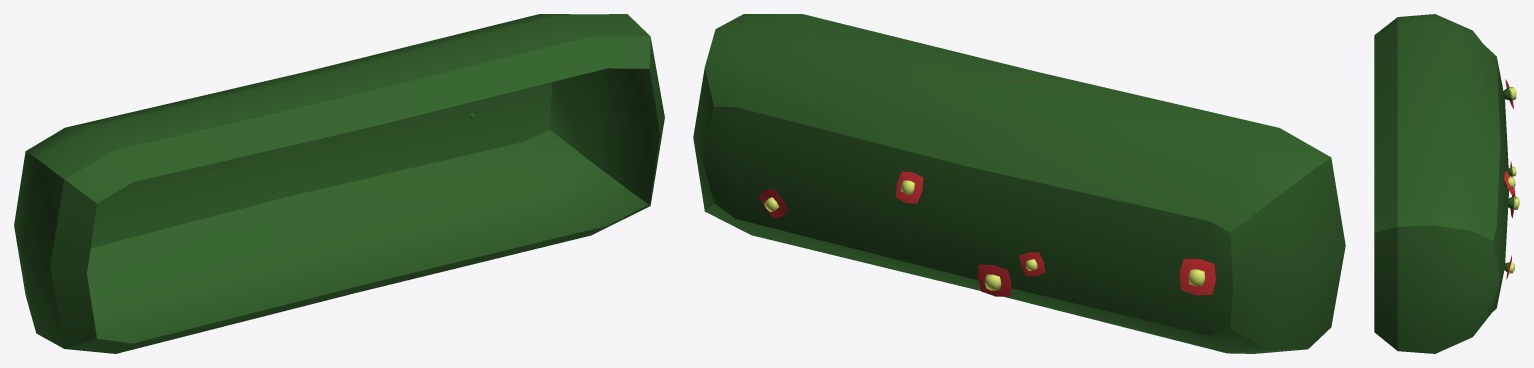
File: Bush 01.FBX
3 views of the same model, side by side, from view 1: azimuth 30°, elevation 25°; view 2: azimuth 150°, elevation 25°; view 3: azimuth 270°, elevation 25° (orthographic). The views are drawn at different scales.
Parts seen in each view (by area): view 1: Bush 01; view 2: Bush 01; view 3: Bush 01.
Boxes of the visible parts, left/top/right/bottom form: Bush 01: left=14, top=14, right=664, bottom=353; Bush 01: left=693, top=14, right=1345, bottom=353; Bush 01: left=1374, top=14, right=1519, bottom=353.
Size of the model in its own units: 466 by 151 by 130.
1 material, 1 textured.
